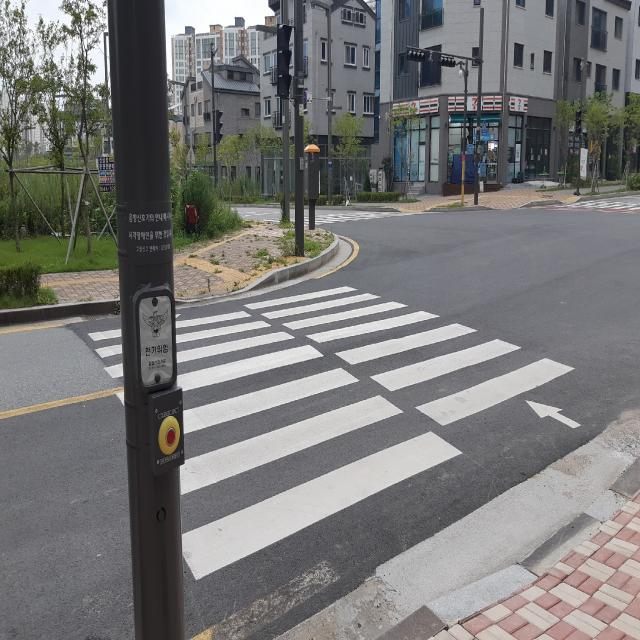횡단보도: (88, 284, 582, 582)
